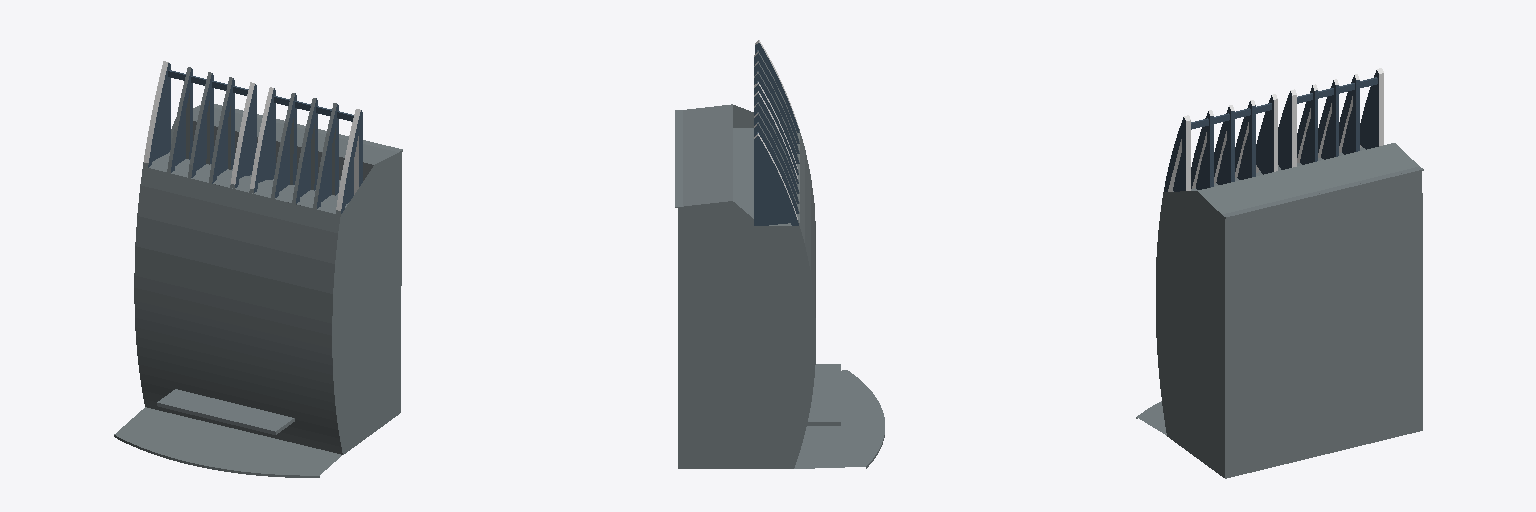
Rendered from dreams.obj.
3 views of the same model, side by side, from view 1: azimuth 30°, elevation 25°; view 2: azimuth 150°, elevation 25°; view 3: azimuth 270°, elevation 25° (orthographic).
Visible parts, largest first — view 1: Mesh3 Group1 Untitled1 Model, Mesh4 Group1 Untitled1 Model, Mesh2 Group2 Group1 Untitled1 Model, Mesh10 Group1 Untitled1 Model, Mesh5 Group1 Untitled1 Model, Mesh14 Group1 Untitled1 Model, Mesh17 Group1 Untitled1 Model, Mesh13 Group1 Untitled1 Model, Mesh15 Group1 Untitled1 Model, Mesh16 Group1 Untitled1 Model, Mesh24 Group1 Untitled1 Model; view 2: Mesh3 Group1 Untitled1 Model, Mesh4 Group1 Untitled1 Model, Mesh2 Group2 Group1 Untitled1 Model; view 3: Mesh3 Group1 Untitled1 Model, Mesh10 Group1 Untitled1 Model, Mesh17 Group1 Untitled1 Model, Mesh24 Group1 Untitled1 Model, Mesh15 Group1 Untitled1 Model, Mesh16 Group1 Untitled1 Model, Mesh5 Group1 Untitled1 Model, Mesh13 Group1 Untitled1 Model, Mesh14 Group1 Untitled1 Model.
Part boxes in pixels (x1,y1,x2,y2): Mesh3 Group1 Untitled1 Model: (134, 61, 402, 454); Mesh4 Group1 Untitled1 Model: (114, 407, 341, 477); Mesh2 Group2 Group1 Untitled1 Model: (157, 389, 294, 434); Mesh10 Group1 Untitled1 Model: (249, 87, 275, 193); Mesh5 Group1 Untitled1 Model: (230, 82, 256, 188); Mesh14 Group1 Untitled1 Model: (209, 77, 234, 183); Mesh17 Group1 Untitled1 Model: (313, 103, 338, 208); Mesh13 Group1 Untitled1 Model: (188, 72, 213, 177); Mesh15 Group1 Untitled1 Model: (271, 93, 296, 198); Mesh16 Group1 Untitled1 Model: (292, 98, 317, 203); Mesh24 Group1 Untitled1 Model: (167, 67, 192, 172); Mesh3 Group1 Untitled1 Model: (675, 40, 815, 468); Mesh4 Group1 Untitled1 Model: (794, 370, 884, 468); Mesh2 Group2 Group1 Untitled1 Model: (807, 364, 840, 425); Mesh3 Group1 Untitled1 Model: (1156, 68, 1423, 478); Mesh10 Group1 Untitled1 Model: (1256, 94, 1277, 174); Mesh17 Group1 Untitled1 Model: (1191, 110, 1213, 189); Mesh24 Group1 Untitled1 Model: (1339, 74, 1359, 154); Mesh15 Group1 Untitled1 Model: (1235, 100, 1255, 179); Mesh16 Group1 Untitled1 Model: (1214, 105, 1234, 184); Mesh5 Group1 Untitled1 Model: (1278, 89, 1296, 169); Mesh13 Group1 Untitled1 Model: (1318, 79, 1338, 159); Mesh14 Group1 Untitled1 Model: (1297, 84, 1317, 164).
Bounding box in the file's own units: 56999 × 76213 × 59118.